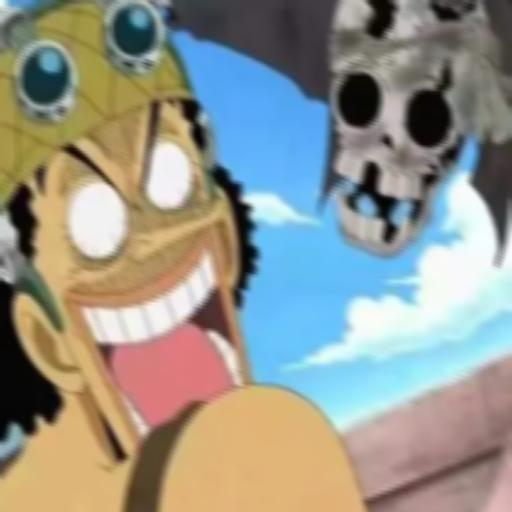Usopp: (0, 1, 379, 512)
